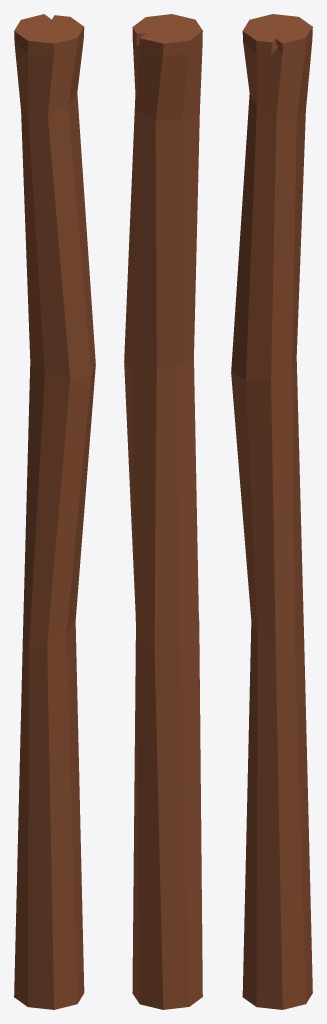
Rendered from Big Wooden log 1.fbx.
3 views of the same model, side by side, from view 1: azimuth 90°, elevation 25°; view 2: azimuth 210°, elevation 25°; view 3: azimuth 270°, elevation 25° (orthographic).
Visible parts, largest first — view 1: Big Wooden log 1; view 2: Big Wooden log 1; view 3: Big Wooden log 1.
Part boxes in pixels (left/top/right/bottom): Big Wooden log 1: left=14, top=14, right=95, bottom=1009; Big Wooden log 1: left=124, top=14, right=202, bottom=1009; Big Wooden log 1: left=231, top=14, right=312, bottom=1009.
Size of the model in its own units: 29.09 by 431 by 33.06.
